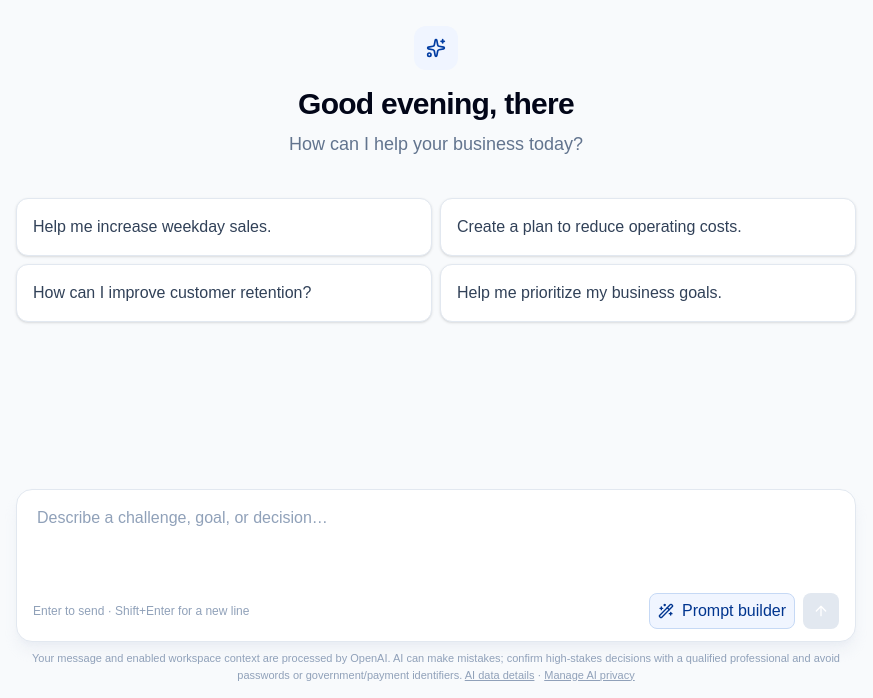
persistent conversations › removes an unsaved blocked message and leaves it available to edit
This screenshot has width=873, height=698.
Type "My card is 4111 1111 1111 1111" into the text box named "Message your business consultant" at (436, 542), box [25,498,847,586]
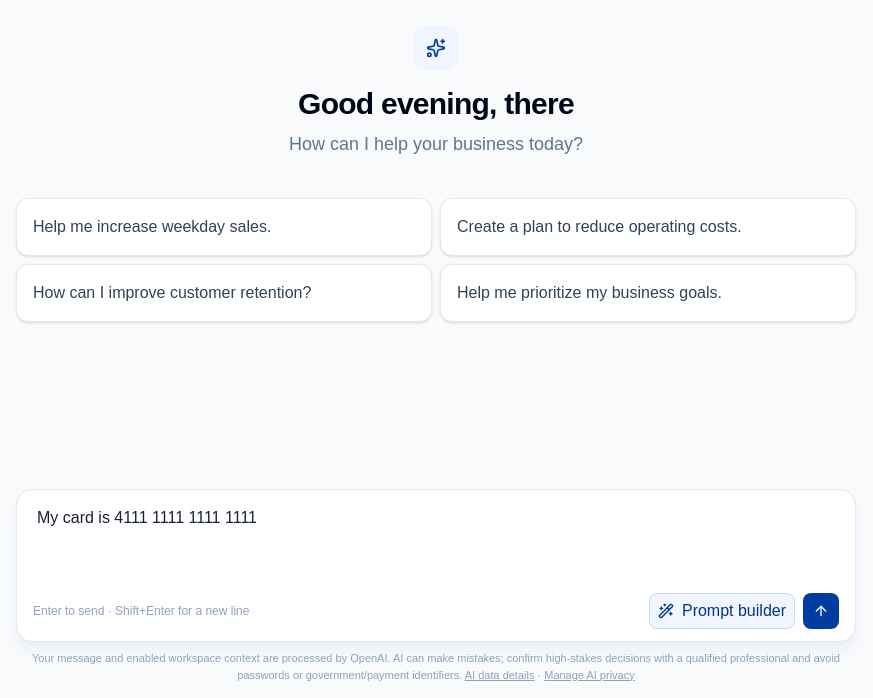
Click the button named "Send message" at (821, 611), box [803,593,839,629]
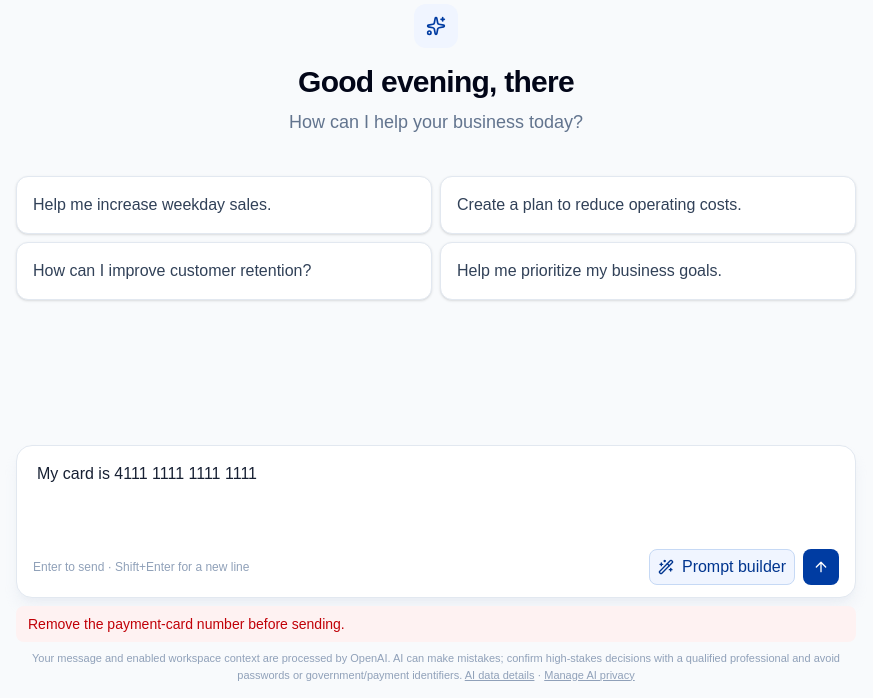
Result: the text "Remove the payment-card number before sending." is shown at [28,614,345,634]
